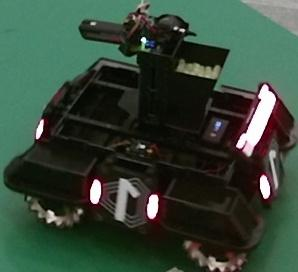armor_1: (91, 179, 159, 219)
light: (236, 83, 276, 157)
